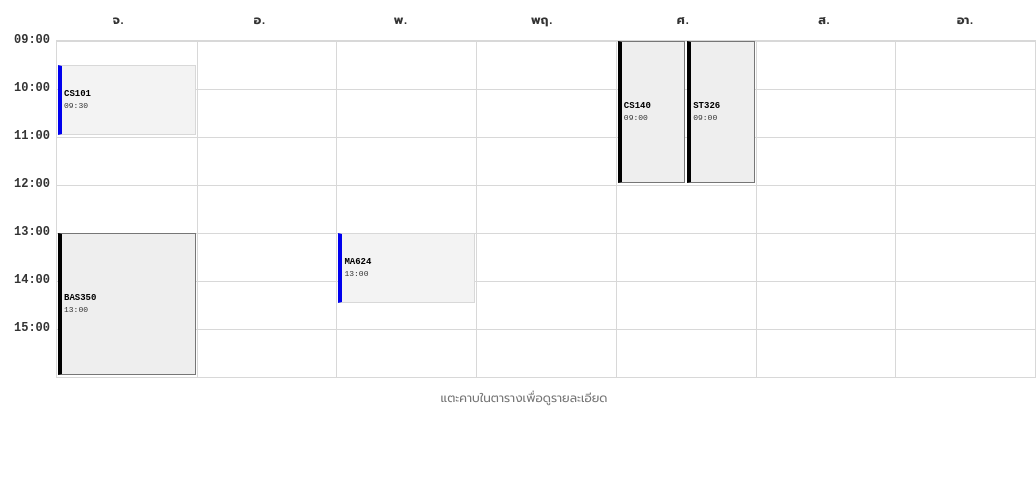
WeeklyTimetable › grid layout (desktop) › shows details, exam date and actions for the tapped entry
Click the button "BAS350 13:00" at [127, 304], box [58,233,196,375]
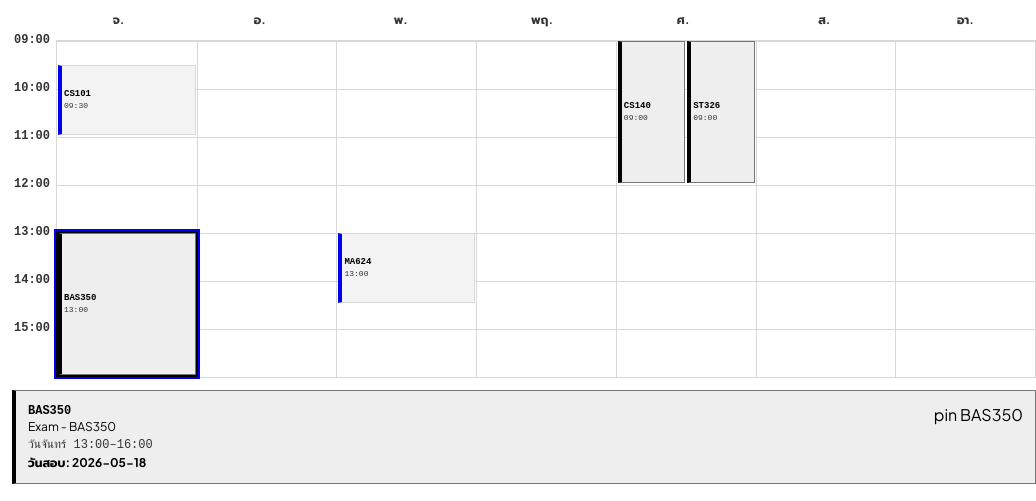
Expected: the element with test id "timetable-entry-card" shows "Exam - BAS350", [28,419,116,434]
Expected: the element with test id "timetable-entry-card" shows "วันจันทร์ 13:00–16:00", [12,390,1035,484]
Expected: the element with test id "timetable-entry-card" shows "วันสอบ: 2026-05-18", [28,455,146,470]
